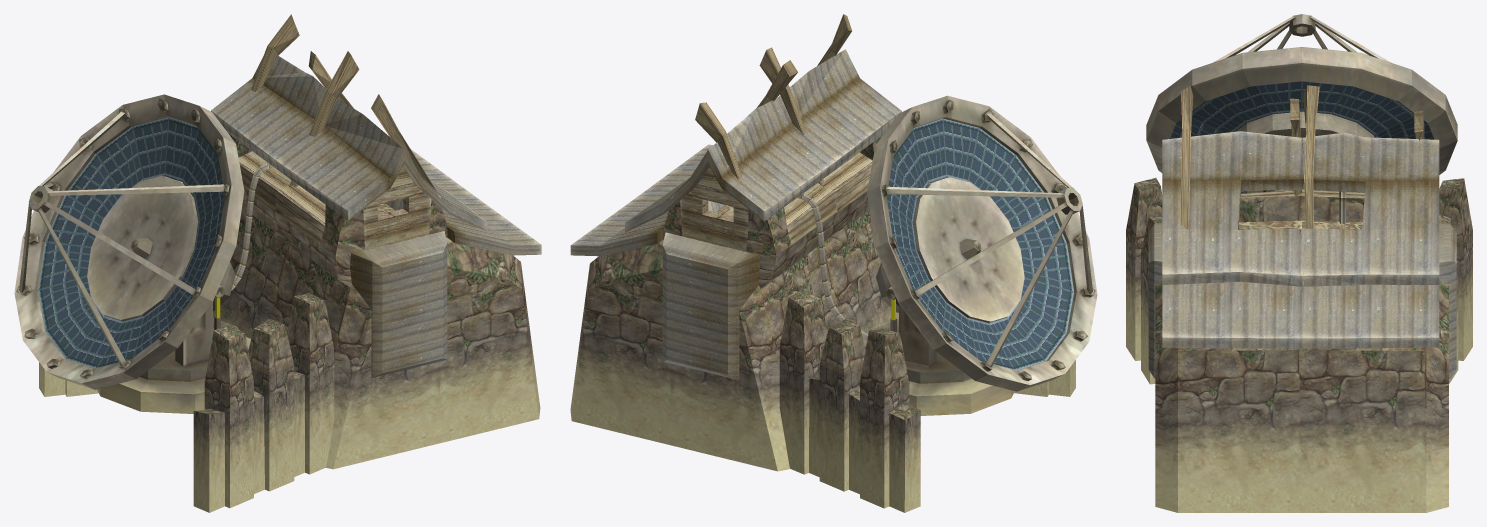
The model's file is C3SMRADARSTH.obj.
3 views of the same model, side by side, from view 1: azimuth 30°, elevation 25°; view 2: azimuth 150°, elevation 25°; view 3: azimuth 270°, elevation 25° (orthographic).
Visible parts, largest first — view 1: Node 0, Node 3, Node 4, Node 8, Node 7, Node 6, Node 11, Node 10, Node 9; view 2: Node 0, Node 3, Node 4, Node 7, Node 5, Node 9, Node 10, Node 11, Node 8; view 3: Node 0, Node 11, Node 10, Node 4, Node 3, Node 8, Node 9, Node 7, Node 5, Node 6.
Part boxes in pixels (left/top/right/bottom): Node 0: left=90, top=14, right=541, bottom=476; Node 3: left=38, top=117, right=224, bottom=368; Node 4: left=14, top=94, right=244, bottom=389; Node 8: left=193, top=318, right=294, bottom=512; Node 7: left=87, top=176, right=235, bottom=329; Node 6: left=350, top=231, right=447, bottom=377; Node 11: left=275, top=99, right=487, bottom=231; Node 10: left=211, top=55, right=326, bottom=168; Node 9: left=39, top=362, right=98, bottom=396; Node 0: left=570, top=14, right=1021, bottom=491; Node 3: left=886, top=118, right=1073, bottom=370; Node 4: left=867, top=95, right=1097, bottom=391; Node 7: left=876, top=177, right=1024, bottom=332; Node 5: left=662, top=232, right=759, bottom=379; Node 9: left=849, top=328, right=920, bottom=512; Node 10: left=625, top=98, right=835, bottom=232; Node 11: left=777, top=49, right=901, bottom=171; Node 8: left=1014, top=360, right=1075, bottom=396; Node 0: left=1155, top=85, right=1458, bottom=512; Node 11: left=1162, top=131, right=1303, bottom=286; Node 10: left=1301, top=132, right=1439, bottom=286; Node 4: left=1146, top=14, right=1457, bottom=174; Node 3: left=1170, top=81, right=1434, bottom=193; Node 8: left=1126, top=177, right=1162, bottom=384; Node 9: left=1439, top=178, right=1472, bottom=360; Node 7: left=1236, top=111, right=1374, bottom=192; Node 5: left=1439, top=221, right=1456, bottom=378; Node 6: left=1148, top=222, right=1162, bottom=378.
Bounding box in the file's own units: 20.97 × 15.57 × 13.95.
Materials: 13 (13 with a texture image).
